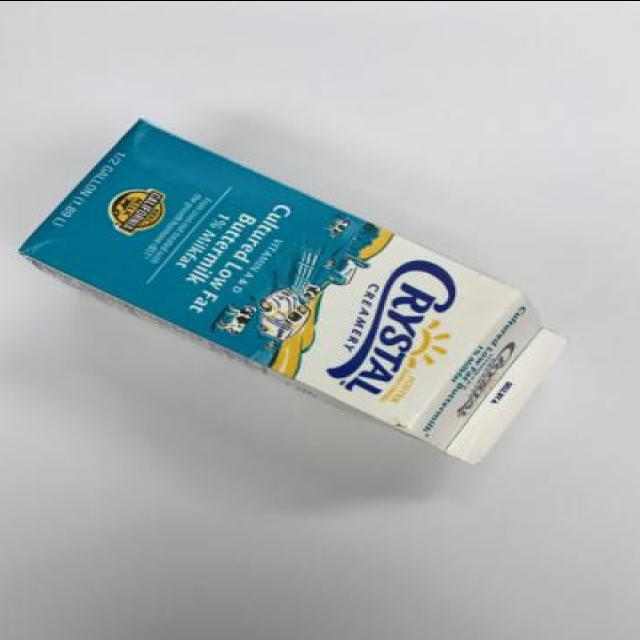kertas: (19, 114, 572, 464)
